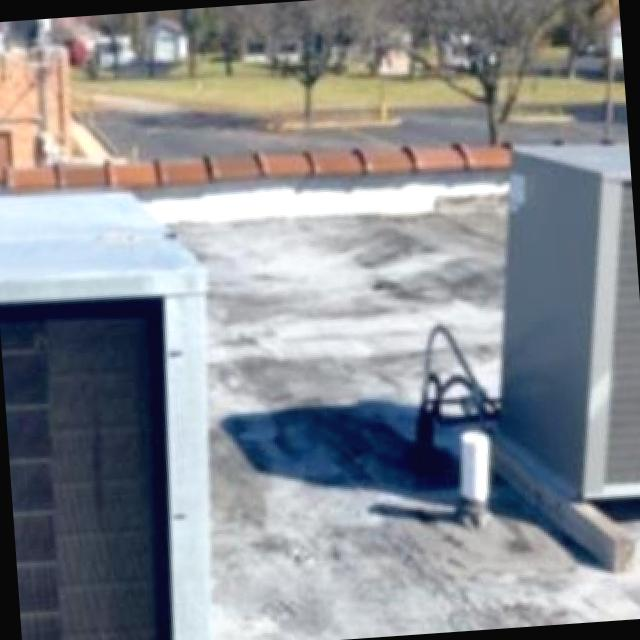SPLIT-SYSTEM: (0, 159, 237, 640), (465, 117, 640, 551)
